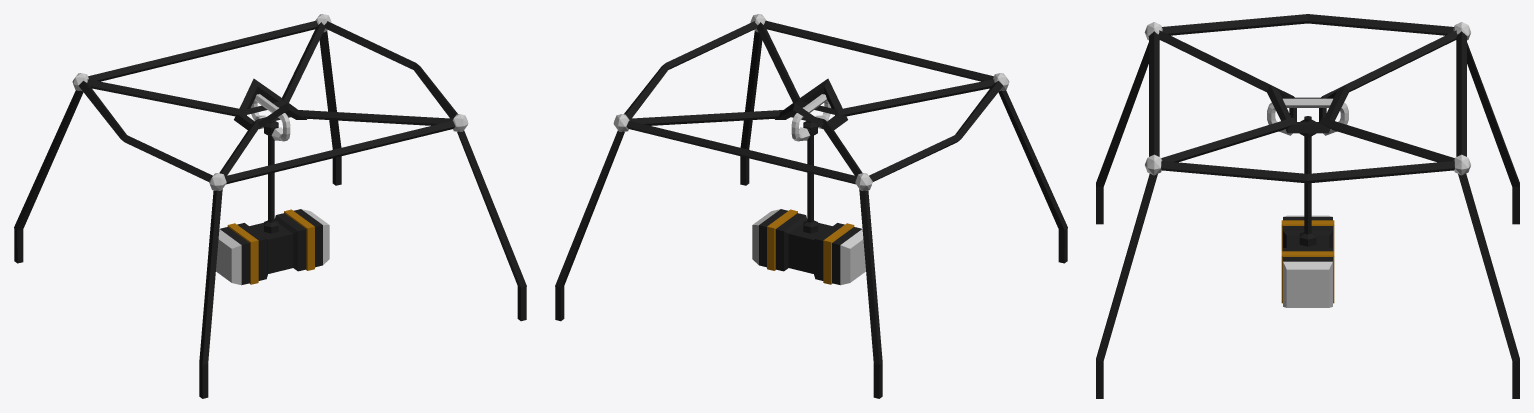
The model's file is hammer.FBX.
The picture shows the model from 3 angles, left to right: view 1: azimuth 30°, elevation 25°; view 2: azimuth 150°, elevation 25°; view 3: azimuth 270°, elevation 25°; orthographic projection. The views are drawn at different scales.
Visible parts, largest first — view 1: hammerFrame, hammer; view 2: hammerFrame, hammer; view 3: hammerFrame, hammer.
Part boxes in pixels (bbox=[...]): hammerFrame: bbox=[14, 14, 526, 398]; hammer: bbox=[216, 121, 329, 285]; hammerFrame: bbox=[555, 14, 1067, 398]; hammer: bbox=[752, 121, 865, 285]; hammerFrame: bbox=[1096, 14, 1519, 398]; hammer: bbox=[1281, 116, 1334, 307].
Bounding box in the file's own units: 199 × 200 × 117.
